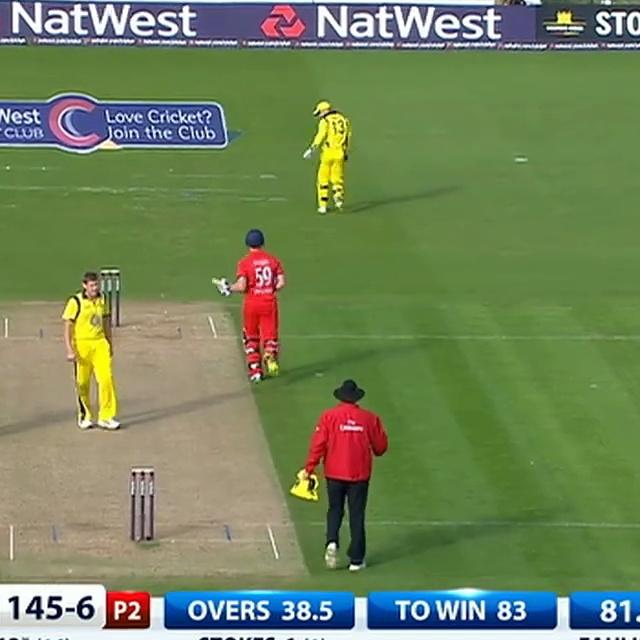umpire: (289, 372, 396, 576)
